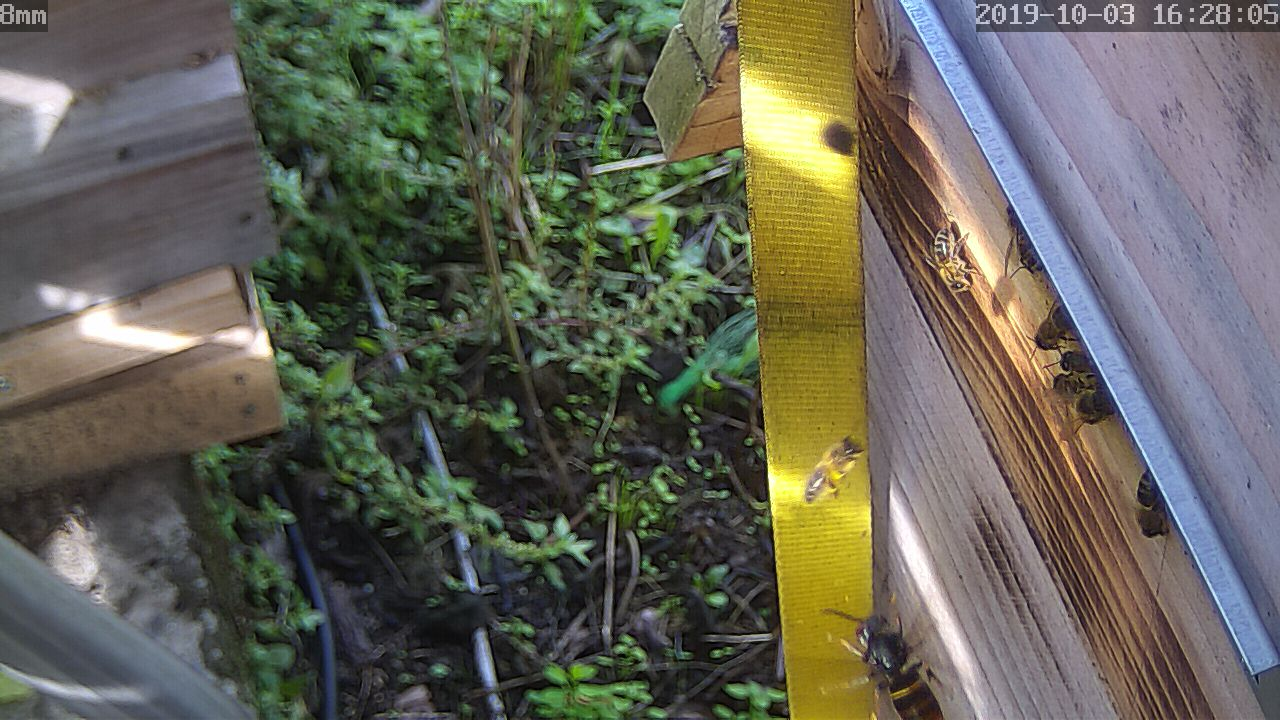bee: (803, 430, 868, 512), (919, 223, 983, 303), (1052, 366, 1115, 429), (1122, 469, 1177, 541), (1021, 304, 1090, 359), (1001, 222, 1055, 289)
hornet: (845, 608, 954, 718)
